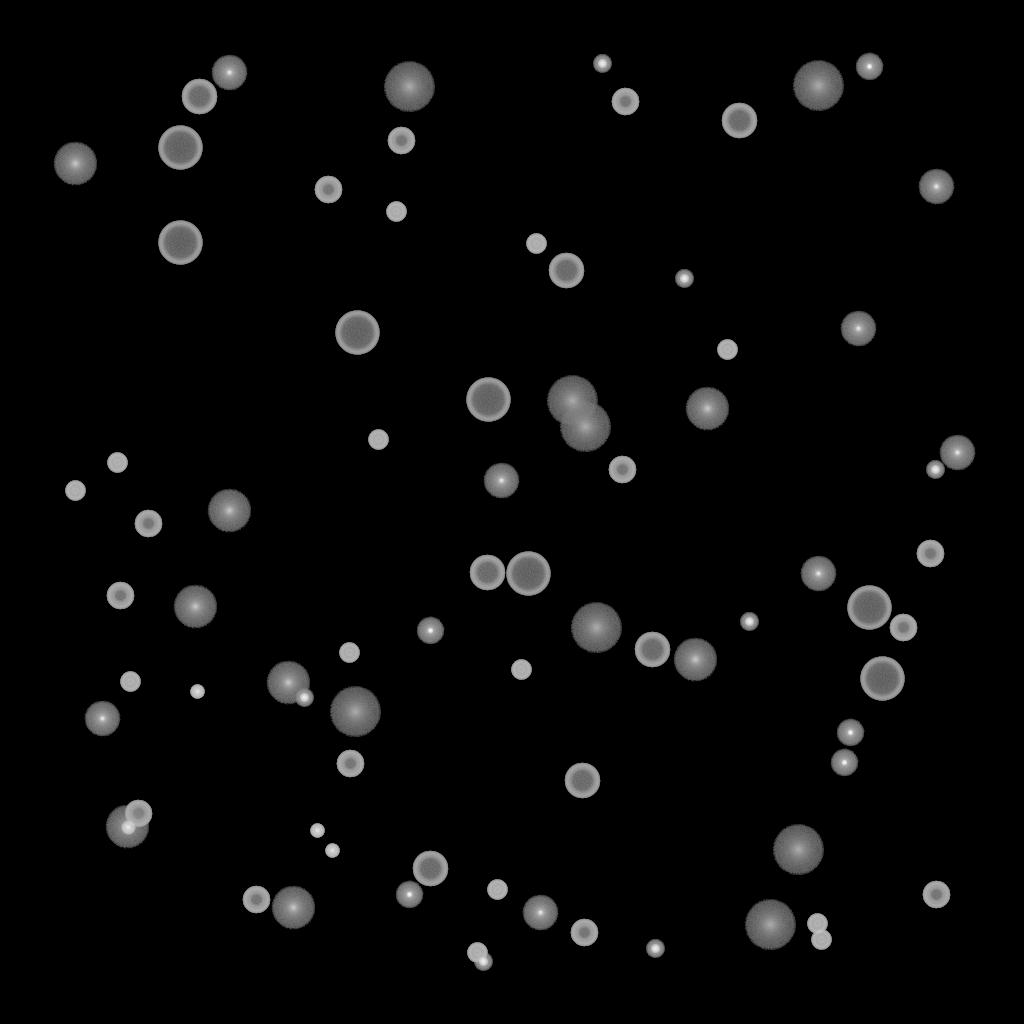depth:-10: (830, 749, 858, 777), (855, 53, 883, 81), (395, 881, 423, 909), (836, 719, 864, 747), (416, 617, 444, 645)
depth:-20: (295, 689, 313, 707), (740, 613, 758, 631), (474, 953, 492, 971), (646, 940, 664, 958), (675, 270, 693, 288), (593, 55, 611, 73), (926, 461, 944, 479)
depth:-30: (121, 821, 135, 835), (190, 685, 204, 699), (310, 824, 324, 838), (325, 844, 339, 858)
depth:-40: (339, 643, 359, 663), (811, 930, 831, 950), (511, 660, 531, 680), (107, 453, 127, 473), (807, 914, 827, 934), (120, 672, 140, 692), (526, 234, 546, 254), (467, 943, 487, 963), (487, 880, 507, 900), (386, 202, 406, 222), (65, 481, 85, 501), (717, 340, 737, 360), (368, 430, 388, 450)
depth:-50: (889, 614, 917, 642), (124, 800, 152, 828), (314, 176, 342, 204), (570, 919, 598, 947), (922, 881, 950, 909), (134, 510, 162, 538), (336, 750, 364, 778), (106, 582, 134, 610), (242, 886, 270, 914), (916, 540, 944, 568), (387, 127, 415, 155), (608, 456, 636, 484), (611, 88, 639, 116)
depth:-60: (564, 763, 600, 799), (721, 103, 757, 139), (412, 851, 448, 887), (634, 632, 670, 668), (181, 79, 217, 115), (469, 555, 505, 591), (548, 253, 584, 289)
depth:-70: (335, 311, 379, 355), (860, 657, 904, 701), (847, 586, 891, 630), (466, 378, 510, 422), (158, 126, 202, 170), (506, 552, 550, 596), (158, 221, 202, 265)
depth:0: (840, 311, 876, 347), (483, 463, 519, 499), (939, 435, 975, 471), (918, 169, 954, 205), (800, 556, 836, 592), (211, 55, 247, 91), (522, 895, 558, 931), (84, 701, 120, 737)
depth:10: (105, 805, 149, 849), (53, 142, 97, 186), (271, 886, 315, 930), (173, 585, 217, 629), (685, 387, 729, 431), (207, 489, 251, 533), (266, 661, 310, 705), (673, 638, 717, 682)
depth:20: (383, 62, 435, 112), (744, 900, 796, 950), (559, 402, 611, 452), (792, 61, 844, 111), (570, 603, 622, 653), (329, 687, 381, 737), (546, 376, 598, 426), (772, 825, 824, 875)
